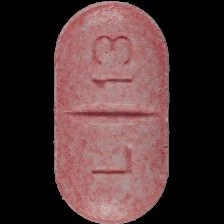0378-1819: (0, 0, 224, 224)
